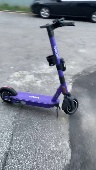beam: (1, 19, 80, 116)
